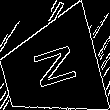N_W: (24, 43, 78, 95)
